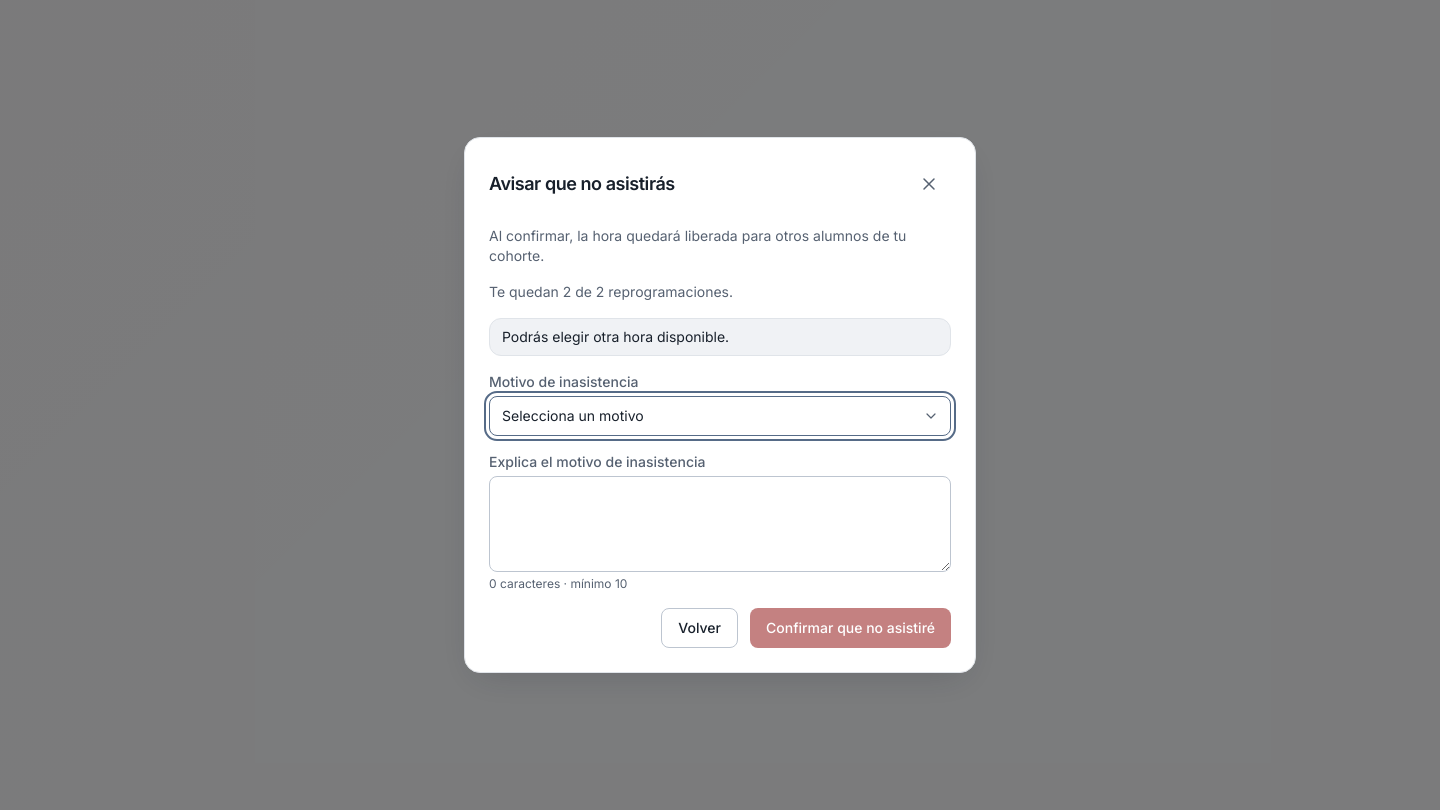
Test: CancelPracticeModal › muestra un error localizado para el campo motivoTexto, sin enseñar 'Invalid value'
Select "Salud" in the dropdown labelled "Motivo de inasistencia" at (720, 416), box [489,396,951,436]
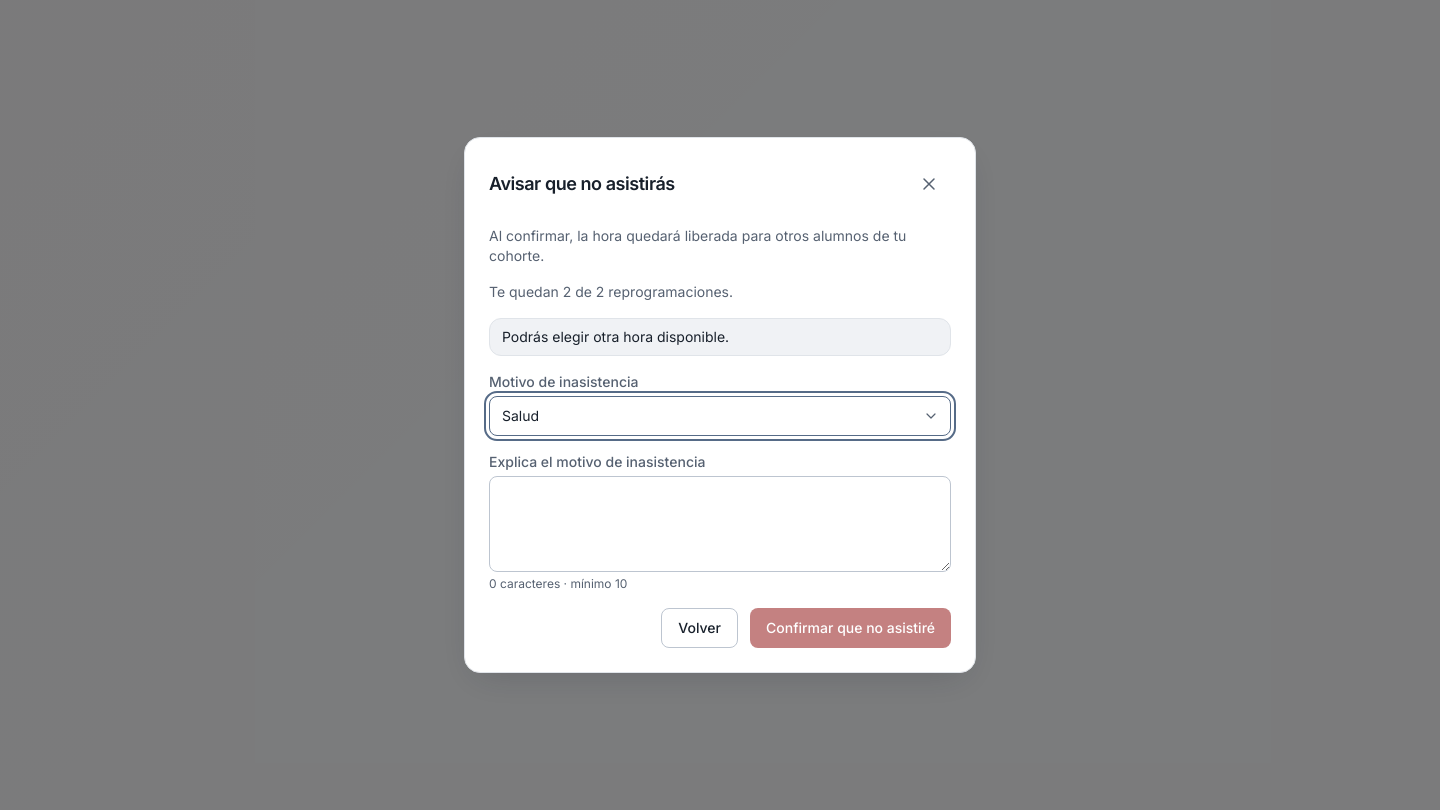
Type "Cita médica confirmada" into the text box labelled "Explica el motivo de inasistencia" at (720, 524), box [489,476,951,572]
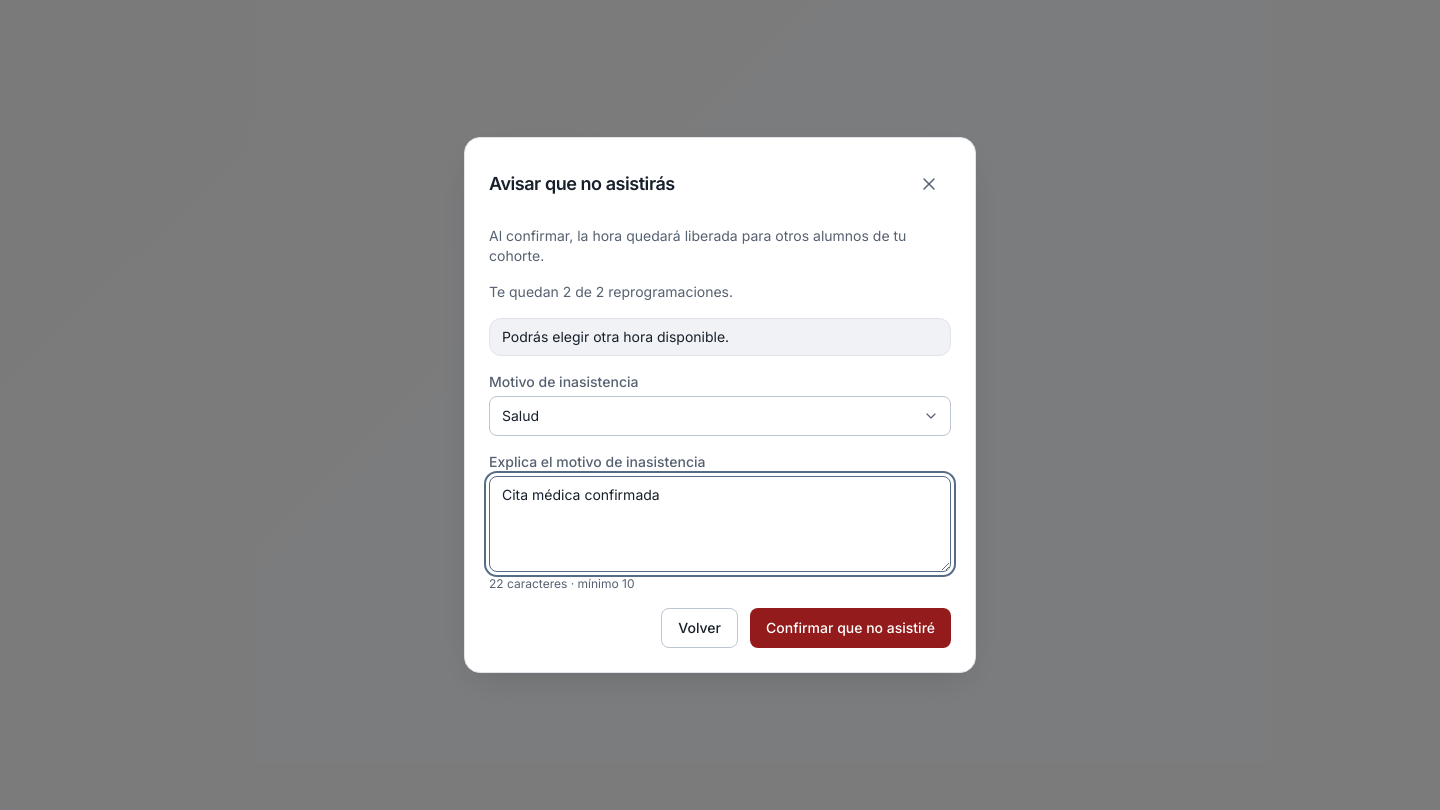
Click the button "Confirmar que no asistiré" at (850, 628), box [750,608,951,648]
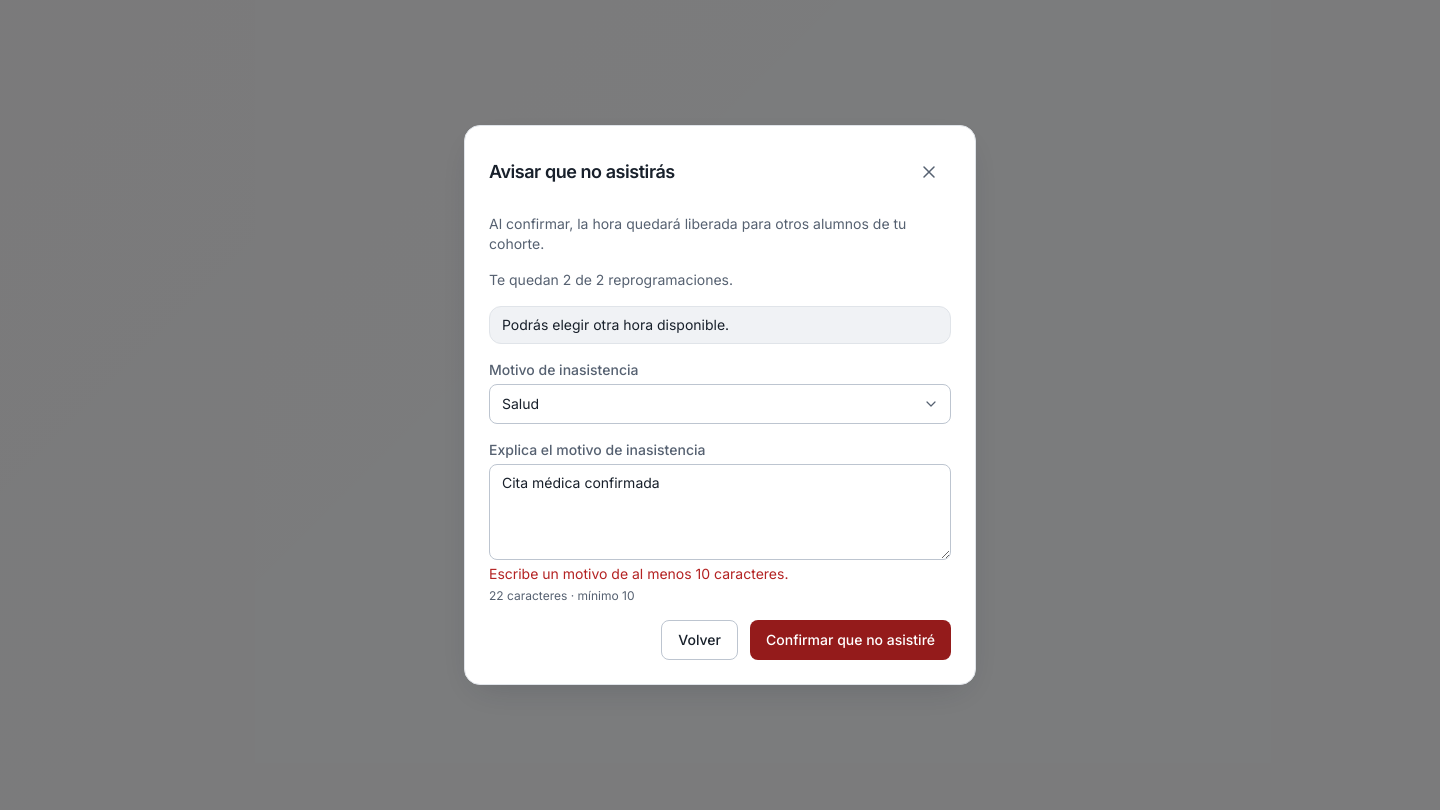
Check: the message reads "Escribe un motivo de al menos 10 caracteres.", box [489,565,788,582]
